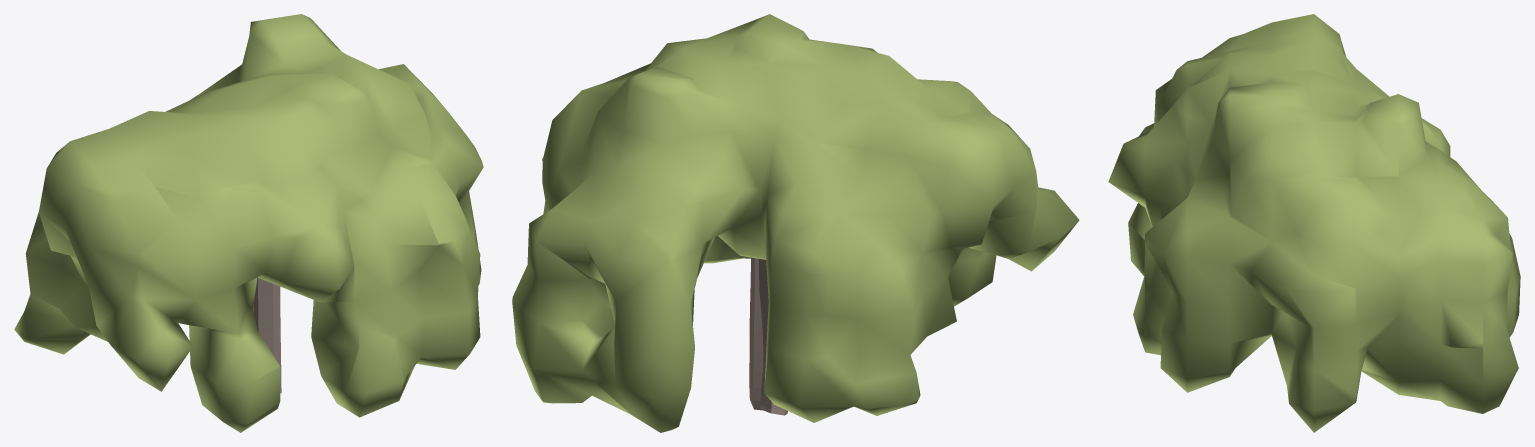
File: arbre3_v1.fbx
3 views of the same model, side by side, from view 1: azimuth 30°, elevation 25°; view 2: azimuth 150°, elevation 25°; view 3: azimuth 270°, elevation 25° (orthographic). The views are drawn at different scales.
Visible parts, largest first — view 1: Mball, BezierCurve; view 2: Mball, BezierCurve; view 3: Mball.
Boxes of the visible parts, x1,y1,x2,y2 form: Mball: (14, 14, 483, 432); BezierCurve: (253, 277, 281, 393); Mball: (512, 14, 1079, 432); BezierCurve: (749, 257, 787, 415); Mball: (1108, 14, 1520, 432).
Bounding box in the file's own units: 3445 × 2546 × 3011.
